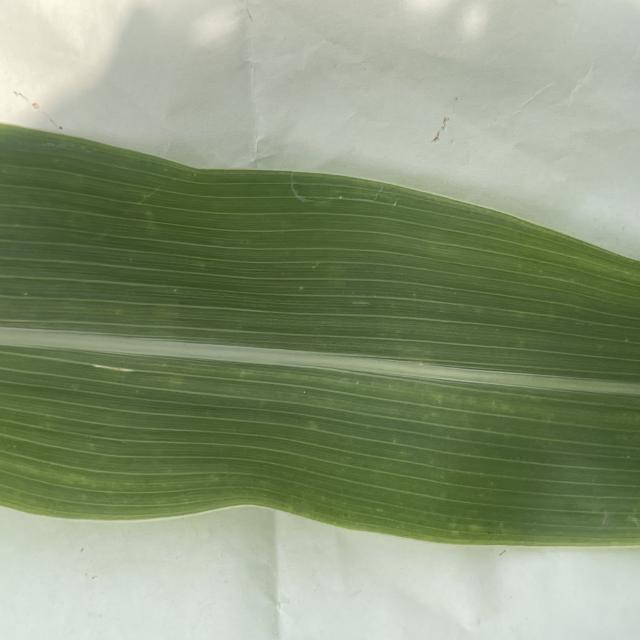millet_healthy: (1, 120, 640, 550)
